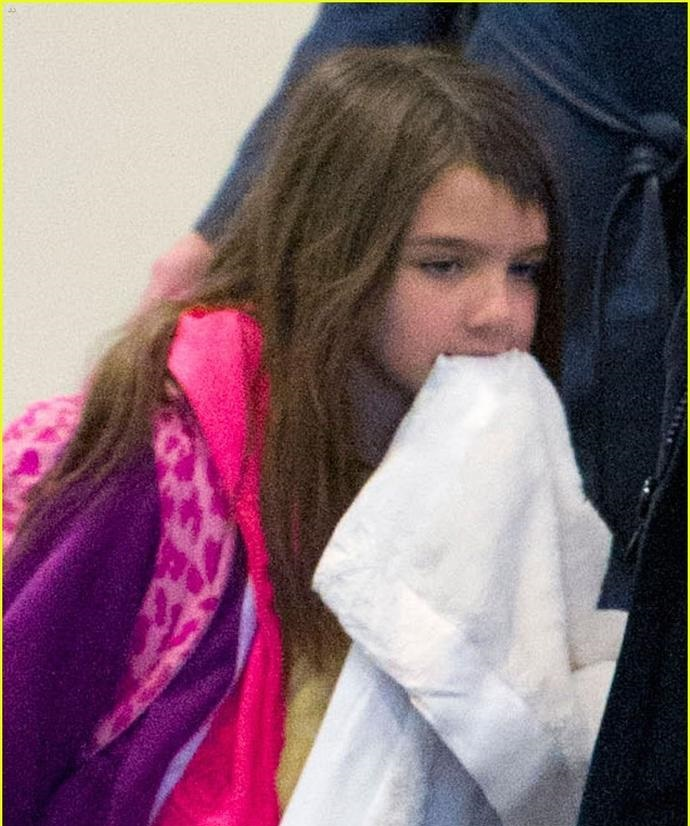face: (369, 166, 547, 421)
